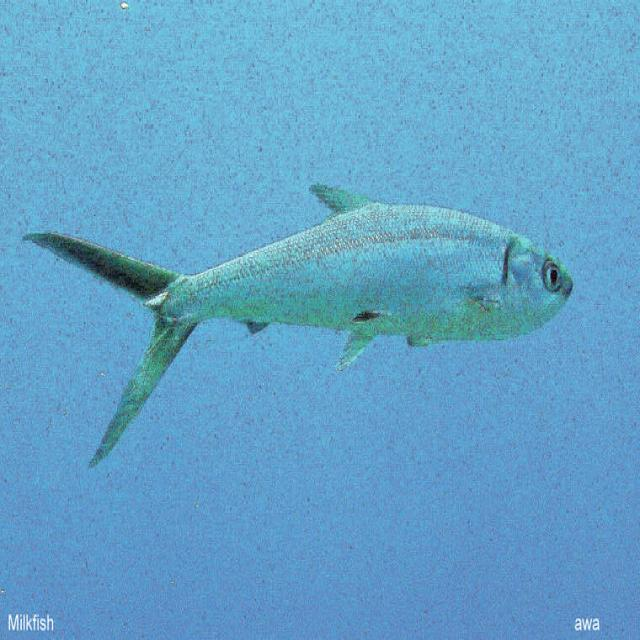Bangus: (19, 143, 640, 520)
